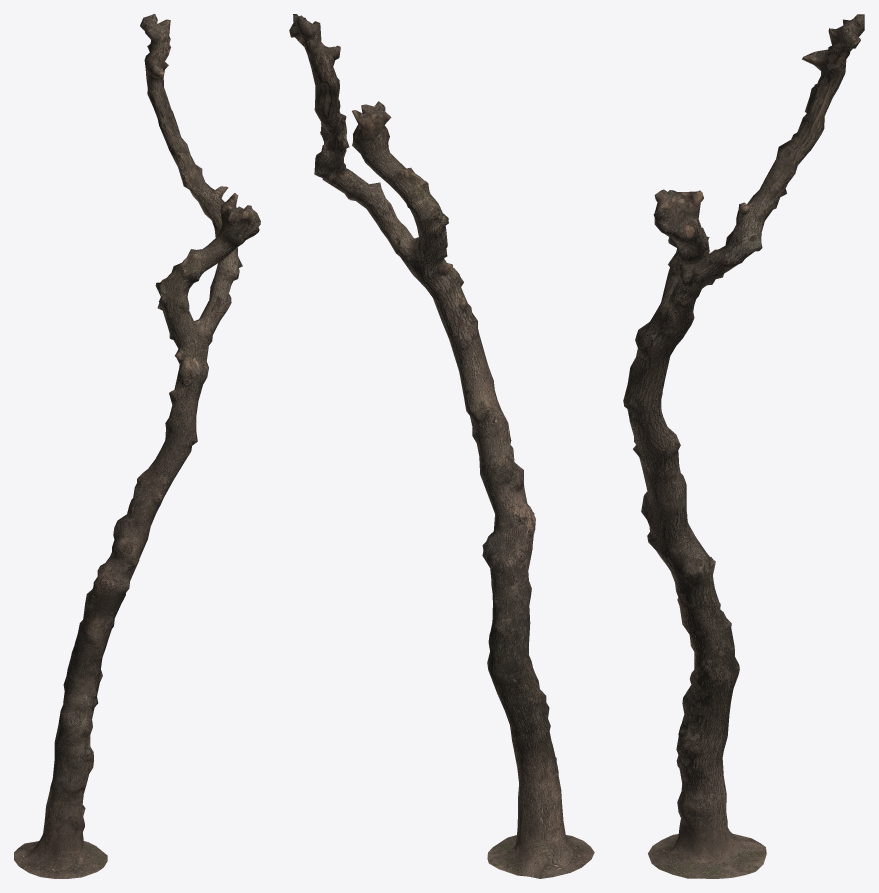
File: pruned_d.glb
The picture shows the model from 3 angles, left to right: view 1: azimuth 30°, elevation 25°; view 2: azimuth 150°, elevation 25°; view 3: azimuth 270°, elevation 25°; orthographic projection. The views are drawn at different scales.
Visible parts, largest first — view 1: prunedD_S_Pruned_Tree_vdfhcjmfa_lod3_Var10_LOD0; view 2: prunedD_S_Pruned_Tree_vdfhcjmfa_lod3_Var10_LOD0; view 3: prunedD_S_Pruned_Tree_vdfhcjmfa_lod3_Var10_LOD0.
Boxes of the visible parts, box(x1,y1,x2,y2) form: prunedD_S_Pruned_Tree_vdfhcjmfa_lod3_Var10_LOD0: box(14, 14, 260, 878); prunedD_S_Pruned_Tree_vdfhcjmfa_lod3_Var10_LOD0: box(289, 14, 594, 878); prunedD_S_Pruned_Tree_vdfhcjmfa_lod3_Var10_LOD0: box(623, 14, 864, 878).
Bounding box in the file's own units: 3.55 × 11.48 × 2.69.
Materials: 1 (1 with a texture image).
